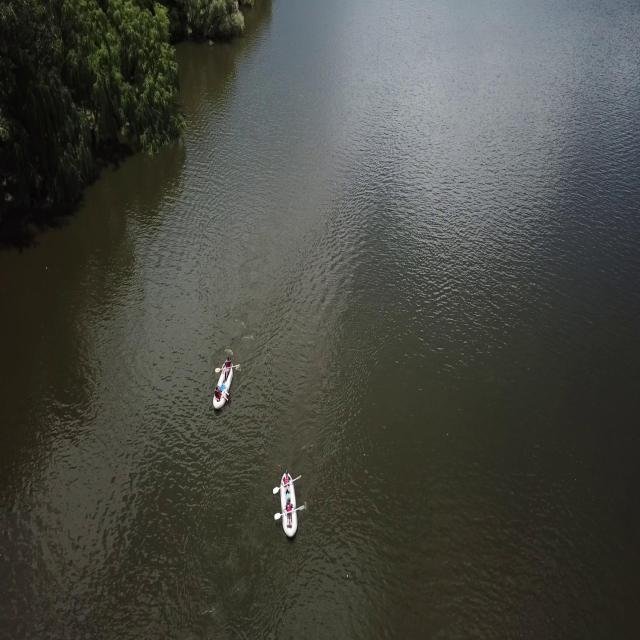kayak: (272, 464, 306, 539), (211, 355, 241, 412)
